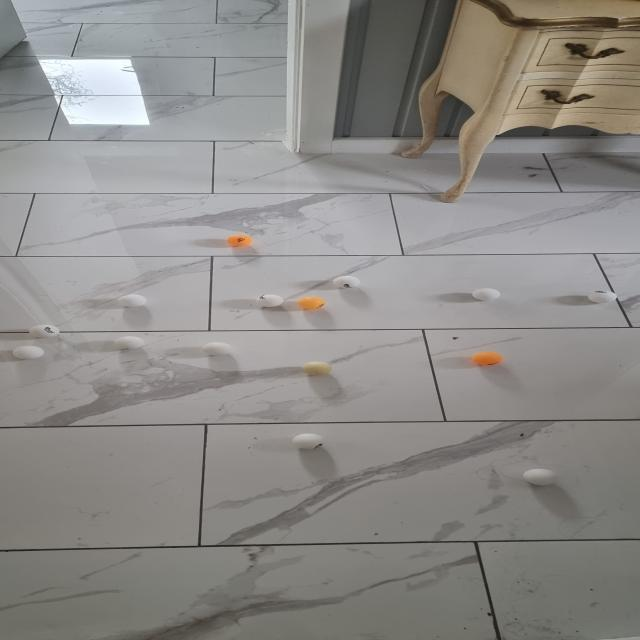orange: (472, 351, 504, 365), (298, 296, 325, 309), (227, 234, 252, 246)
white: (524, 468, 558, 486), (292, 434, 326, 449), (12, 346, 44, 360), (302, 362, 334, 376), (117, 294, 148, 308), (588, 290, 618, 304), (202, 342, 232, 356), (115, 336, 144, 350), (332, 276, 362, 289), (30, 325, 60, 338), (472, 288, 501, 301), (256, 294, 284, 307)
